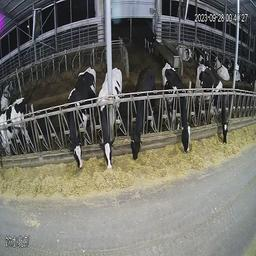cow: (63, 55, 97, 186), (97, 57, 124, 189), (161, 58, 193, 165), (127, 59, 157, 170), (195, 62, 229, 149), (1, 97, 27, 172), (143, 26, 159, 55), (214, 52, 229, 82), (178, 38, 192, 63)
